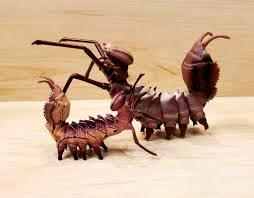Lobster Moth: (34, 33, 232, 140), (30, 72, 150, 166)
